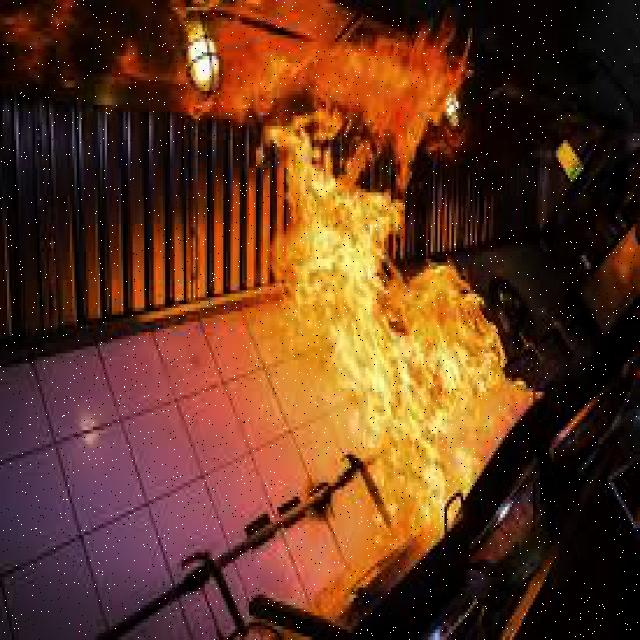fire: (269, 133, 514, 473)
